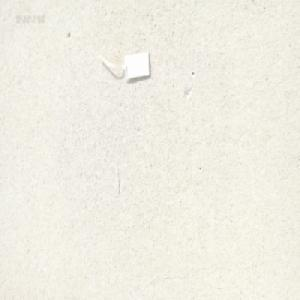LuggageTag: (99, 48, 152, 82)
